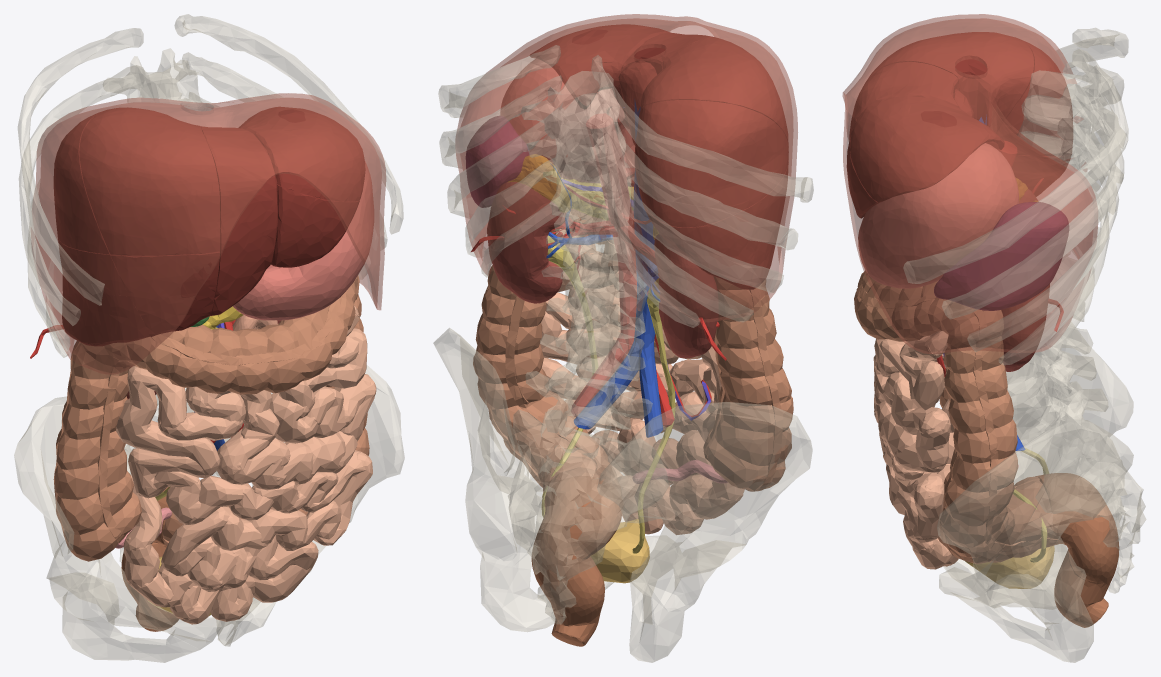
Rendered from abdomen.glb.
3 views of the same model, side by side, from view 1: azimuth 30°, elevation 25°; view 2: azimuth 150°, elevation 25°; view 3: azimuth 270°, elevation 25° (orthographic). The views are drawn at different scales.
Parts seen in each view (by area): view 1: diaphragm, liver, smallint, skeleton, largeint, stomach, rectum; view 2: skeleton, diaphragm, liver, largeint, smallint, kidneys, rectum, aorta, stomach, ivc, spleen, ureters (+4 smaller); view 3: diaphragm, skeleton, liver, largeint, smallint, stomach, spleen, rectum, kidneys, bladder, ureters, aorta.
Part boxes in pixels (left/top/right/bottom): diaphragm: left=31, top=93, right=386, bottom=374; liver: left=53, top=106, right=365, bottom=346; smallint: left=116, top=305, right=376, bottom=624; skeleton: left=14, top=14, right=404, bottom=662; largeint: left=53, top=275, right=369, bottom=561; stomach: left=232, top=161, right=374, bottom=320; rectum: left=121, top=487, right=178, bottom=631; skeleton: left=433, top=45, right=813, bottom=662; diaphragm: left=455, top=14, right=797, bottom=322; liver: left=530, top=24, right=788, bottom=289; largeint: left=473, top=209, right=793, bottom=507; smallint: left=540, top=229, right=744, bottom=534; kidneys: left=487, top=182, right=718, bottom=358; rectum: left=531, top=475, right=622, bottom=646; aorta: left=471, top=113, right=726, bottom=427; stomach: left=500, top=59, right=634, bottom=186; ivc: left=546, top=99, right=663, bottom=437; spleen: left=465, top=116, right=529, bottom=207; ureters: left=541, top=235, right=675, bottom=553; diaphragm: left=842, top=14, right=1098, bottom=354; skeleton: left=903, top=28, right=1146, bottom=662; liver: left=846, top=32, right=1072, bottom=218; largeint: left=854, top=270, right=1058, bottom=564; smallint: left=873, top=331, right=958, bottom=569; stomach: left=858, top=143, right=1018, bottom=288; spleen: left=934, top=201, right=1068, bottom=310; rectum: left=1035, top=473, right=1119, bottom=627; kidneys: left=1001, top=189, right=1049, bottom=371; bladder: left=965, top=545, right=1054, bottom=588; ureters: left=1013, top=448, right=1048, bottom=562; aorta: left=937, top=141, right=1063, bottom=376.
Size of the model in its own units: 0.2903 by 0.4604 by 0.2133.
